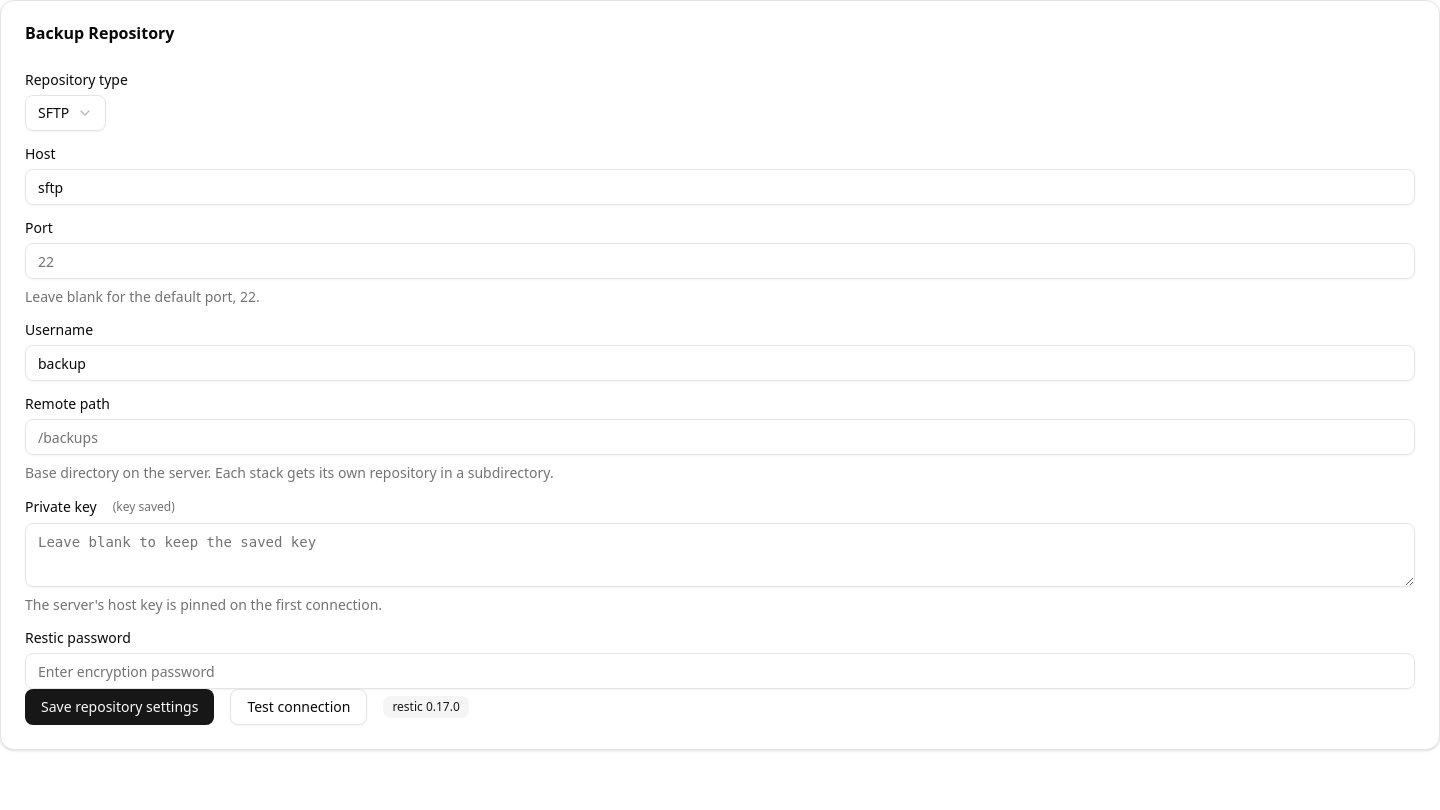
Test: BackupRepositoryCard › test connection › shows the failure message from the server
Click the button "Test connection". click: x=299, y=707
box: [230, 689, 367, 725]
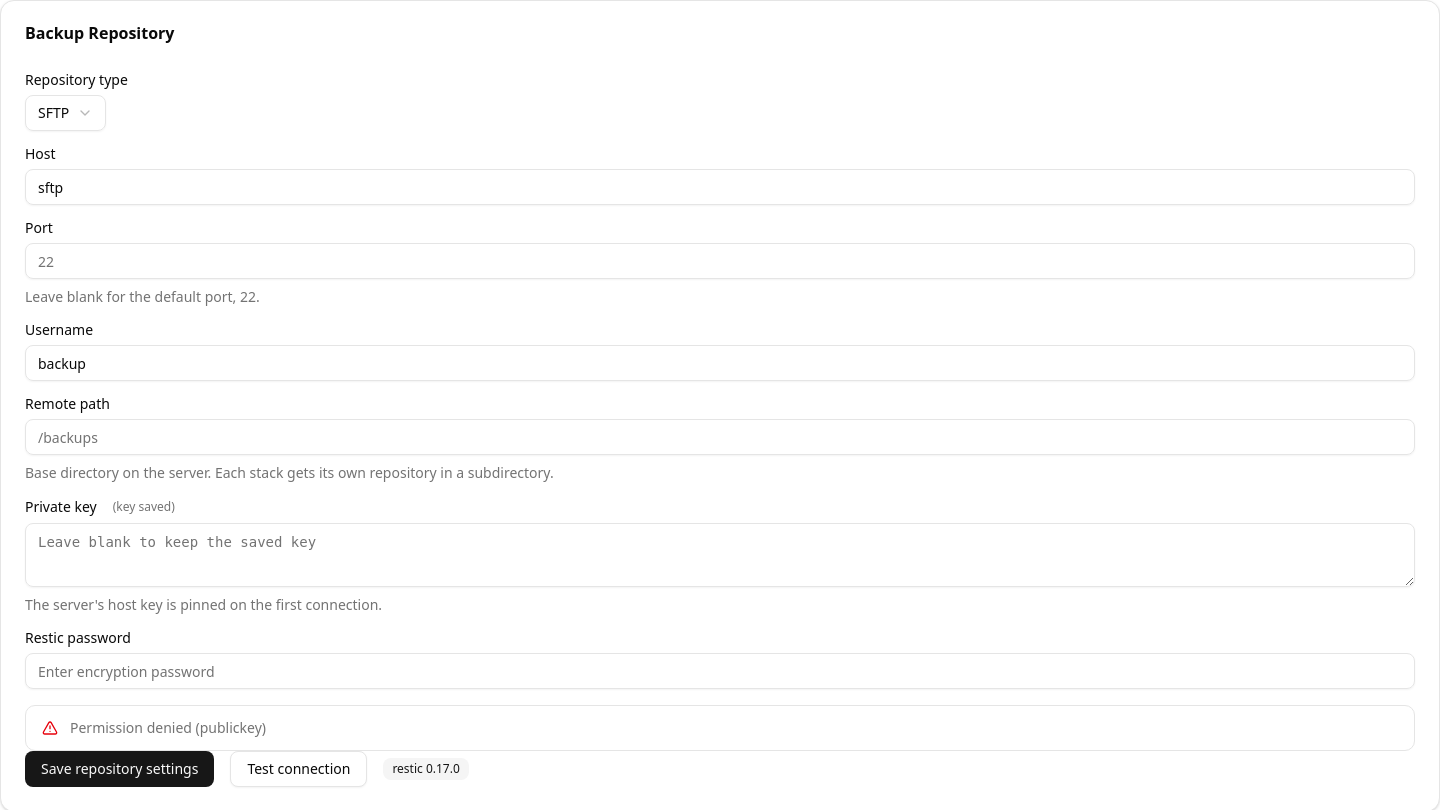
Now the text "Permission denied (publickey)" is shown, box [70, 718, 266, 737]
